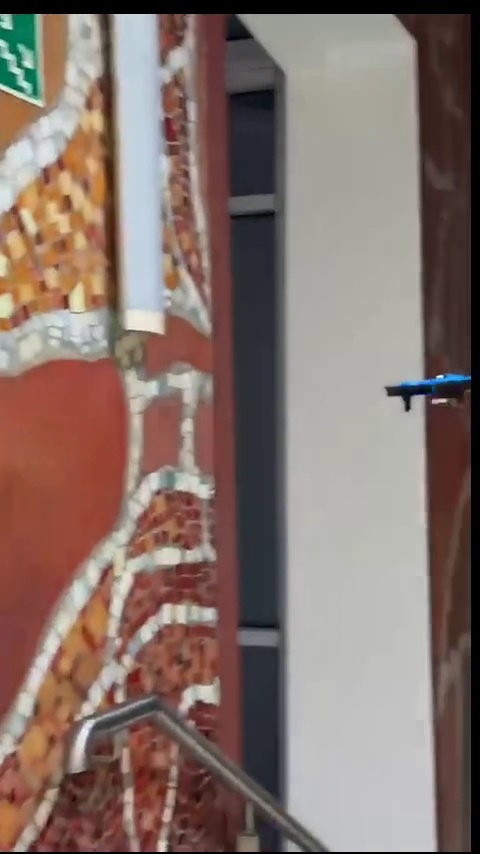drone: (379, 372, 469, 408)
